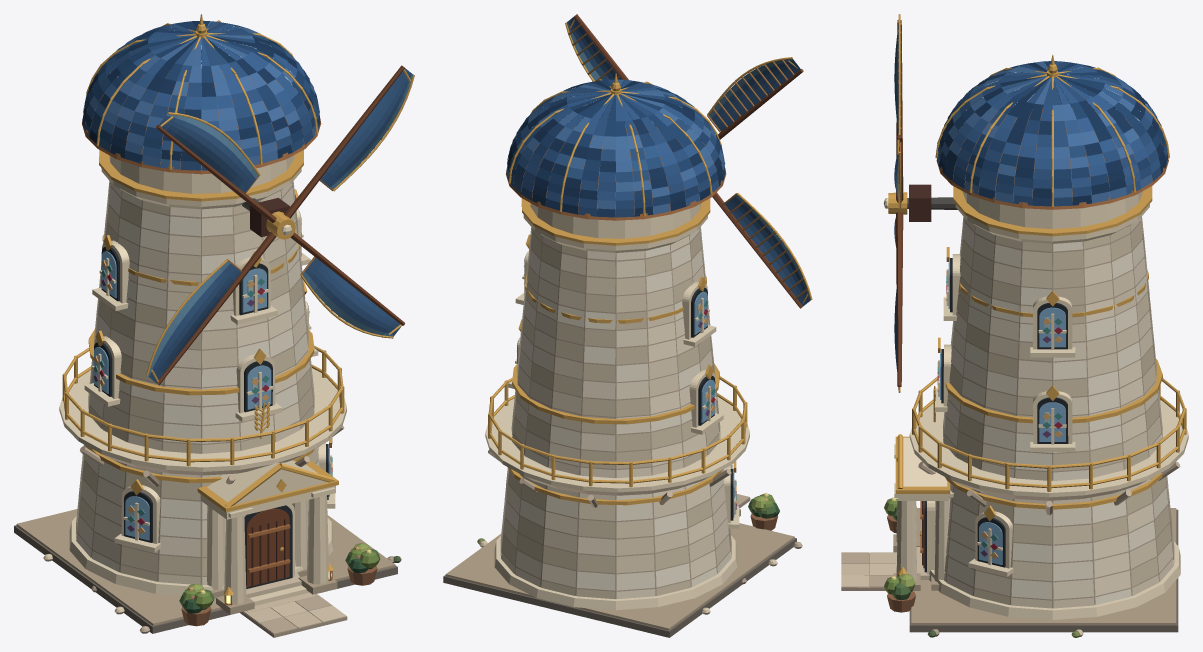
The model's file is windmill-nivel-9.glb.
3 views of the same model, side by side, from view 1: azimuth 30°, elevation 25°; view 2: azimuth 150°, elevation 25°; view 3: azimuth 270°, elevation 25° (orthographic). The views are drawn at different scales.
Visible parts, largest first — view 1: Moinho de vento 09 #e6d7ba, Moinho de vento 09 #d5a452, Moinho de vento 09 #e8dcc5, Moinho de vento 09 #eae1ce, Moinho de vento 09 #cec1a8, Pás do moinho #355a83, Moinho de vento 09 #ded1b9, Moinho de vento 09 #b3a390, Moinho de vento 09 #4670a0, Moinho de vento 09 #b4a38a, Moinho de vento 09 #355f90, Moinho de vento 09 #2e5481 (+16 smaller); view 2: Moinho de vento 09 #cec1a8, Moinho de vento 09 #e6d7ba, Moinho de vento 09 #e8dcc5, Moinho de vento 09 #ded1b9, Moinho de vento 09 #eae1ce, Moinho de vento 09 #d5a452, Moinho de vento 09 #b3a390, Moinho de vento 09 #2e5481, Moinho de vento 09 #b4a38a, Moinho de vento 09 #234771, Moinho de vento 09 #355f90, Moinho de vento 09 #1b385b (+11 smaller); view 3: Moinho de vento 09 #e6d7ba, Moinho de vento 09 #eae1ce, Moinho de vento 09 #ded1b9, Moinho de vento 09 #cec1a8, Moinho de vento 09 #e8dcc5, Moinho de vento 09 #d5a452, Moinho de vento 09 #b3a390, Moinho de vento 09 #355f90, Moinho de vento 09 #2e5481, Moinho de vento 09 #1b385b, Moinho de vento 09 #b4a38a, Moinho de vento 09 #234771 (+13 smaller).
Part boxes in pixels (x1=…): Moinho de vento 09 #e6d7ba: x1=59, y1=155, x2=346, y2=605; Moinho de vento 09 #d5a452: x1=62, y1=14, x2=344, y2=595; Moinho de vento 09 #e8dcc5: x1=77, y1=182, x2=314, y2=585; Moinho de vento 09 #eae1ce: x1=76, y1=181, x2=319, y2=572; Moinho de vento 09 #cec1a8: x1=76, y1=181, x2=318, y2=581; Pás do moinho #355a83: x1=149, y1=68, x2=411, y2=382; Moinho de vento 09 #ded1b9: x1=79, y1=190, x2=318, y2=584; Moinho de vento 09 #b3a390: x1=77, y1=182, x2=318, y2=584; Moinho de vento 09 #4670a0: x1=83, y1=23, x2=318, y2=169; Moinho de vento 09 #b4a38a: x1=16, y1=509, x2=395, y2=625; Moinho de vento 09 #355f90: x1=84, y1=21, x2=319, y2=158; Moinho de vento 09 #2e5481: x1=84, y1=22, x2=319, y2=170; Moinho de vento 09 #cec1a8: x1=501, y1=228, x2=731, y2=599; Moinho de vento 09 #e6d7ba: x1=485, y1=203, x2=749, y2=610; Moinho de vento 09 #e8dcc5: x1=501, y1=236, x2=728, y2=599; Moinho de vento 09 #ded1b9: x1=501, y1=227, x2=730, y2=573; Moinho de vento 09 #eae1ce: x1=500, y1=227, x2=731, y2=590; Moinho de vento 09 #d5a452: x1=488, y1=73, x2=747, y2=505; Moinho de vento 09 #b3a390: x1=501, y1=228, x2=730, y2=598; Moinho de vento 09 #2e5481: x1=513, y1=79, x2=719, y2=217; Moinho de vento 09 #b4a38a: x1=445, y1=509, x2=794, y2=630; Moinho de vento 09 #234771: x1=509, y1=80, x2=725, y2=217; Moinho de vento 09 #355f90: x1=508, y1=79, x2=724, y2=206; Moinho de vento 09 #1b385b: x1=507, y1=80, x2=723, y2=216; Moinho de vento 09 #e6d7ba: x1=894, y1=191, x2=1188, y2=620; Moinho de vento 09 #eae1ce: x1=935, y1=222, x2=1168, y2=604; Moinho de vento 09 #ded1b9: x1=935, y1=218, x2=1169, y2=608; Moinho de vento 09 #cec1a8: x1=943, y1=216, x2=1174, y2=604; Moinho de vento 09 #e8dcc5: x1=935, y1=216, x2=1173, y2=599; Moinho de vento 09 #d5a452: x1=895, y1=54, x2=1186, y2=574; Moinho de vento 09 #b3a390: x1=935, y1=218, x2=1173, y2=608; Moinho de vento 09 #355f90: x1=953, y1=61, x2=1167, y2=196; Moinho de vento 09 #2e5481: x1=939, y1=61, x2=1161, y2=206; Moinho de vento 09 #1b385b: x1=939, y1=62, x2=1166, y2=205; Moinho de vento 09 #b4a38a: x1=893, y1=508, x2=1176, y2=624; Moinho de vento 09 #234771: x1=939, y1=61, x2=1167, y2=206.
Bounding box in the file's own units: 6.24 × 11.73 × 7.1.
